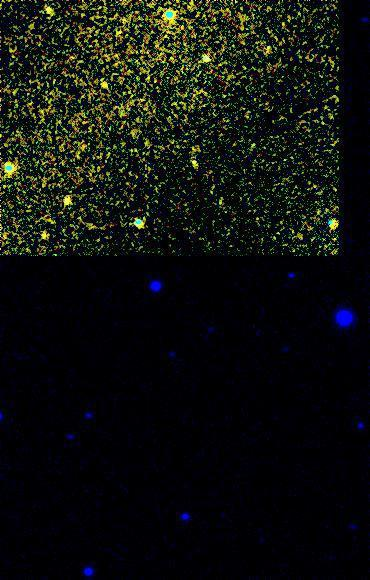star: (89, 70, 119, 100)
